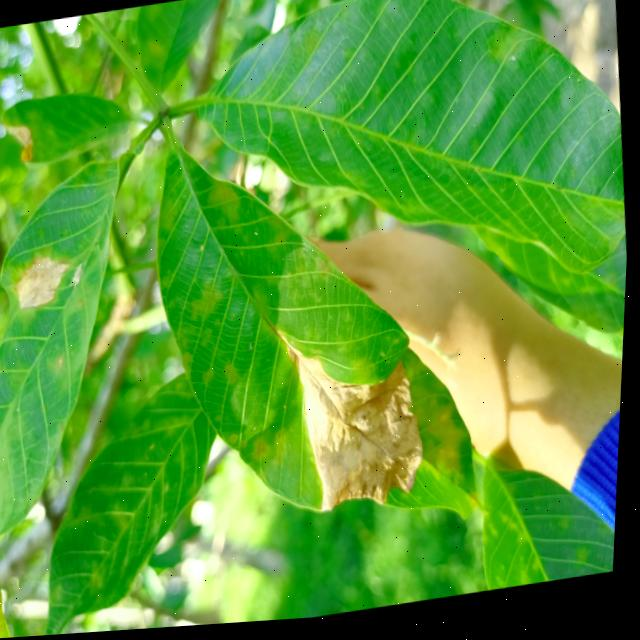Leaf-Blight: (284, 332, 436, 522)
